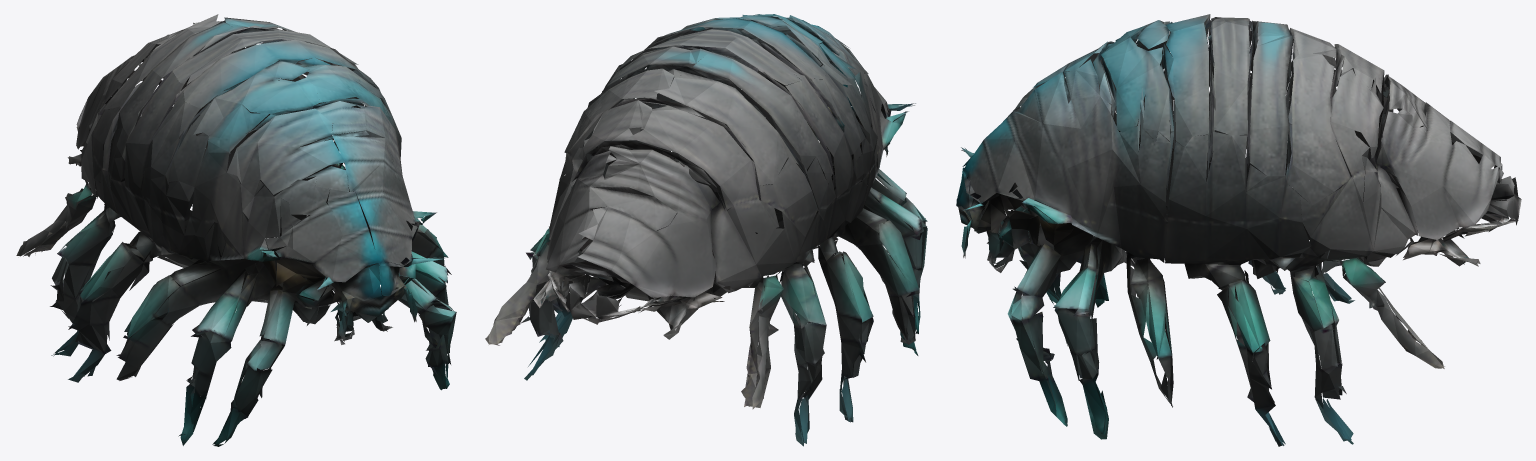
The model's file is creature_abyss_crawler.fbx.
The picture shows the model from 3 angles, left to right: view 1: azimuth 30°, elevation 25°; view 2: azimuth 150°, elevation 25°; view 3: azimuth 270°, elevation 25°; orthographic projection. The views are drawn at different scales.
Parts seen in each view (by area): view 1: creature_abyss_crawler; view 2: creature_abyss_crawler; view 3: creature_abyss_crawler.
Boxes of the visible parts, bbox=[...] form: creature_abyss_crawler: bbox=[16, 14, 456, 446]; creature_abyss_crawler: bbox=[485, 14, 927, 446]; creature_abyss_crawler: bbox=[956, 14, 1521, 446].
Bounding box in the file's own units: 0.9373 × 0.9076 × 1.33.
Materials: 1 (1 with a texture image).
